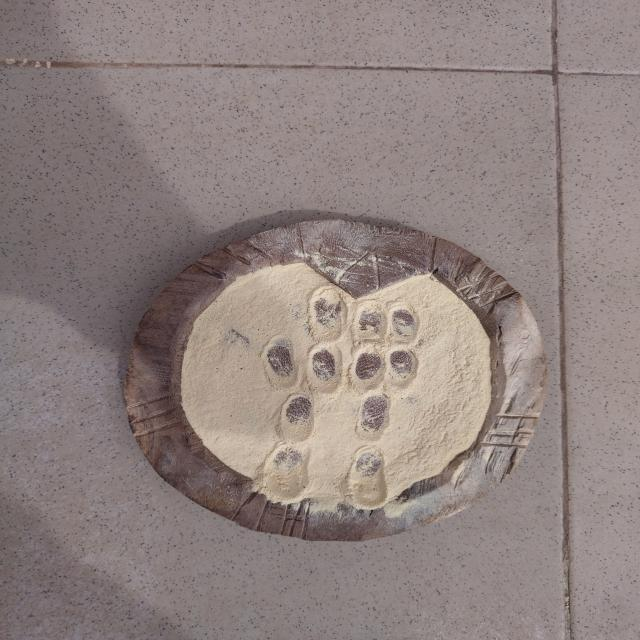double: (258, 334, 346, 394), (348, 342, 427, 390), (350, 300, 422, 344)
single: (258, 441, 312, 498), (346, 445, 390, 504), (306, 284, 348, 342), (354, 392, 396, 442), (278, 393, 318, 442)
